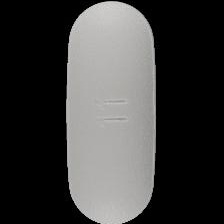65862-538: (0, 0, 224, 224)
